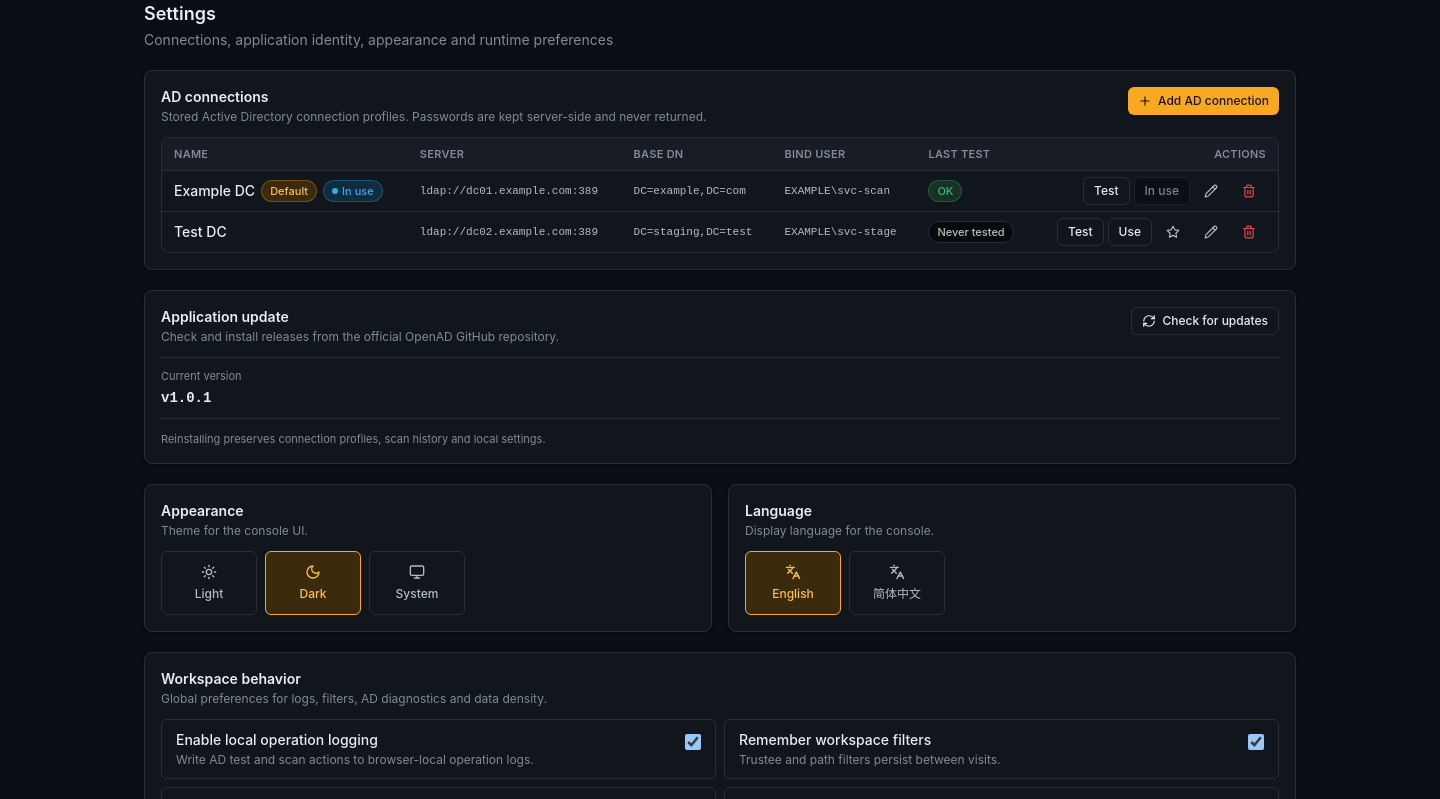
Test case: SettingsPage › opens the add-connection dialog and validates required fields
The width and height of the screenshot is (1440, 799).
Click the button "Add AD connection". click: x=1204, y=101
box: [1128,87,1279,115]
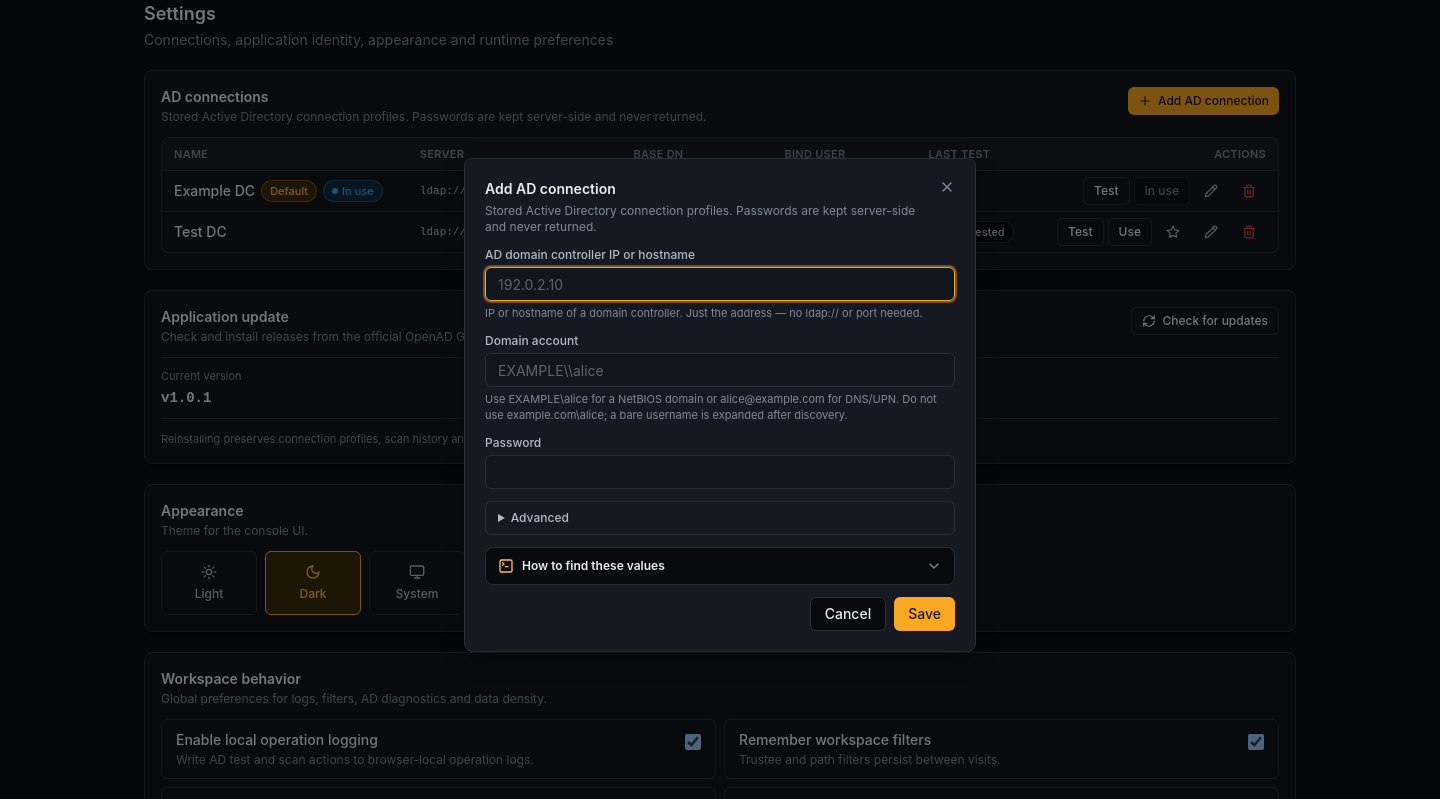
expect the field labelled "Domain account" is shown: met, box [485,353,955,387]
expect the text "Use EXAMPLE\\alice for a NetBIOS domain or alice@example.com for DNS/UPN. Do not use example.com\\alice; a bare username i" is shown: met, box [485,392,937,422]
Click the button "Save". click: x=925, y=614
box: [894,597,955,631]
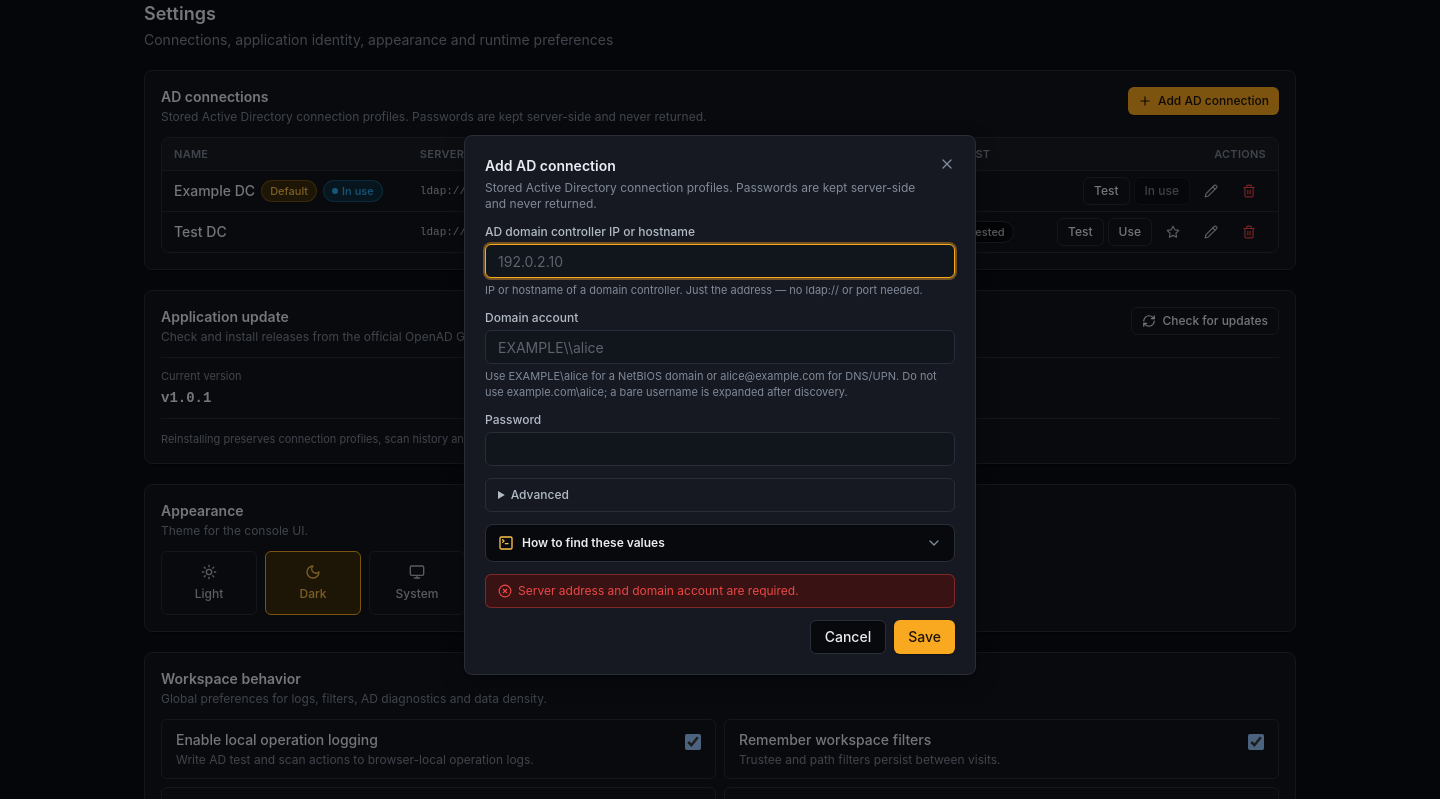
expect the text "Server address and domain account are required." is shown: met, box [485,574,955,608]
